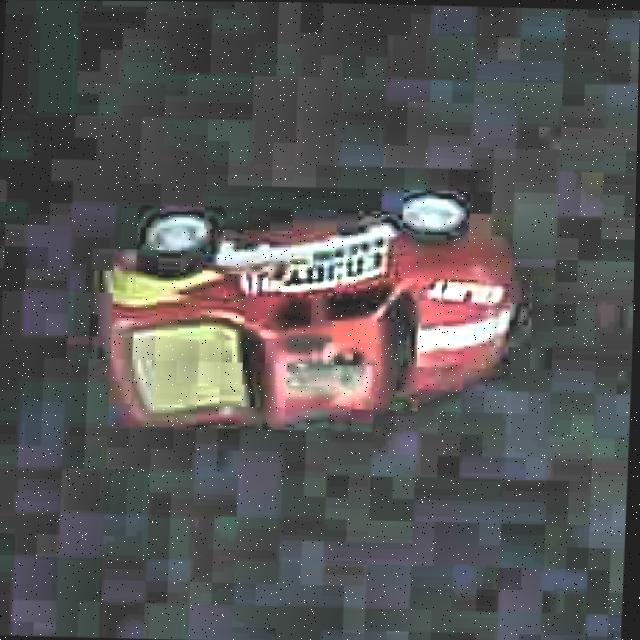car: (89, 180, 527, 444)
